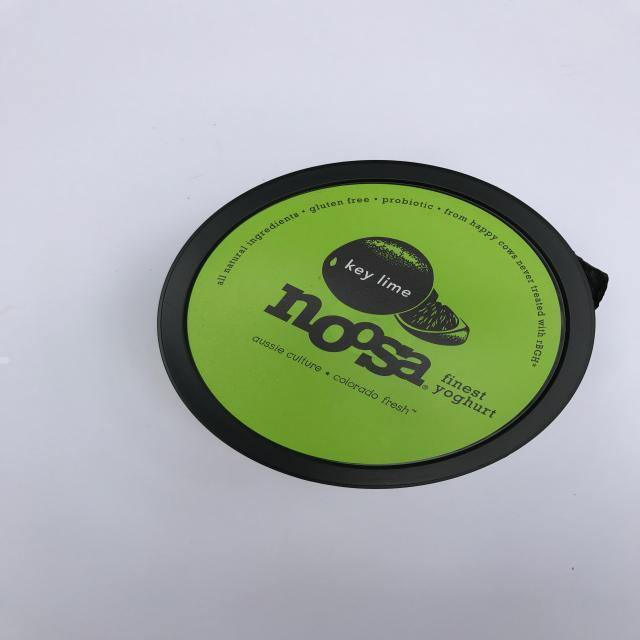plastic: (157, 158, 610, 492)
